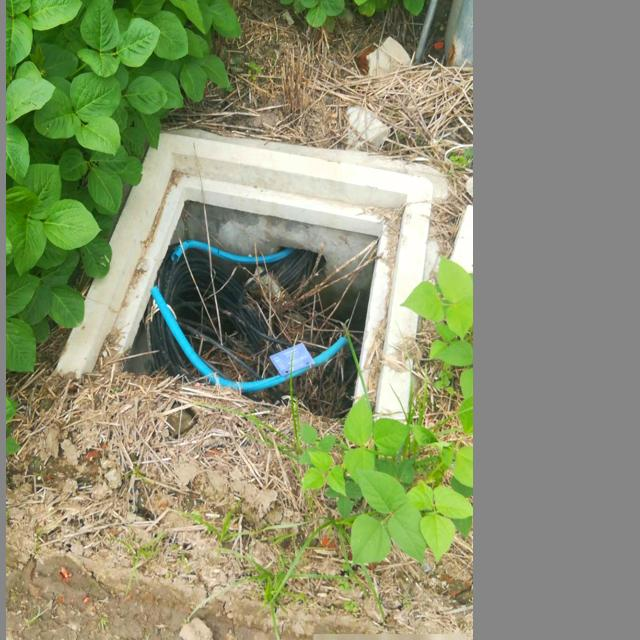lose: (45, 129, 438, 454)
